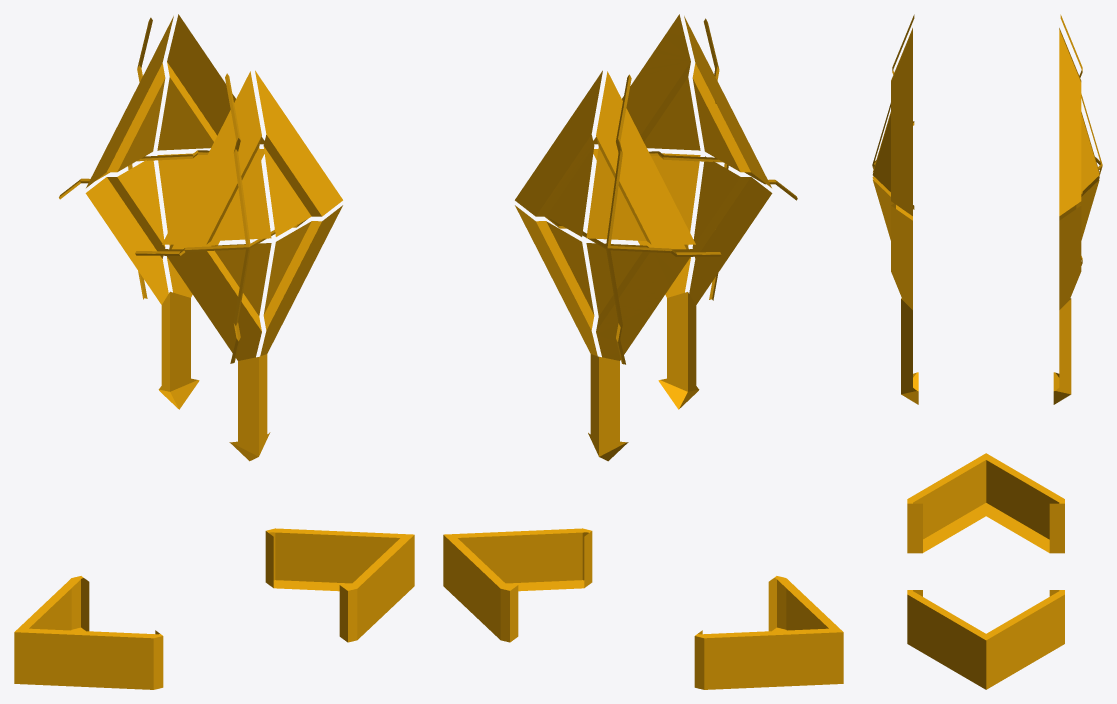
Rendered from sword_crest.obj.
The picture shows the model from 3 angles, left to right: view 1: azimuth 30°, elevation 25°; view 2: azimuth 150°, elevation 25°; view 3: azimuth 270°, elevation 25°; orthographic projection. The views are drawn at different scales.
Parts seen in each view (by area): view 1: Crest, Crest_Detail; view 2: Crest, Crest_Detail; view 3: Crest, Crest_Detail.
Part boxes in pixels (x1,y1,x2,y2): Crest: (14, 14, 414, 689); Crest_Detail: (59, 17, 307, 363); Crest: (443, 14, 843, 689); Crest_Detail: (545, 18, 797, 364); Crest: (872, 28, 1099, 689); Crest_Detail: (872, 14, 1102, 265).
Size of the model in its own units: 0.2208 by 0.3137 by 0.1149.
